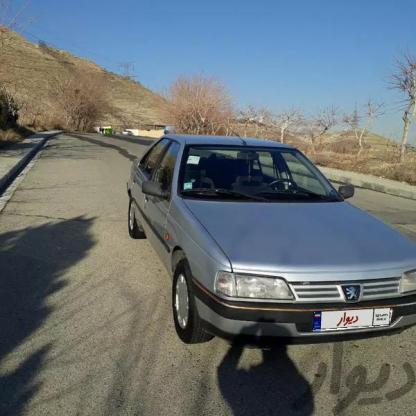Car: (123, 126, 416, 350)
